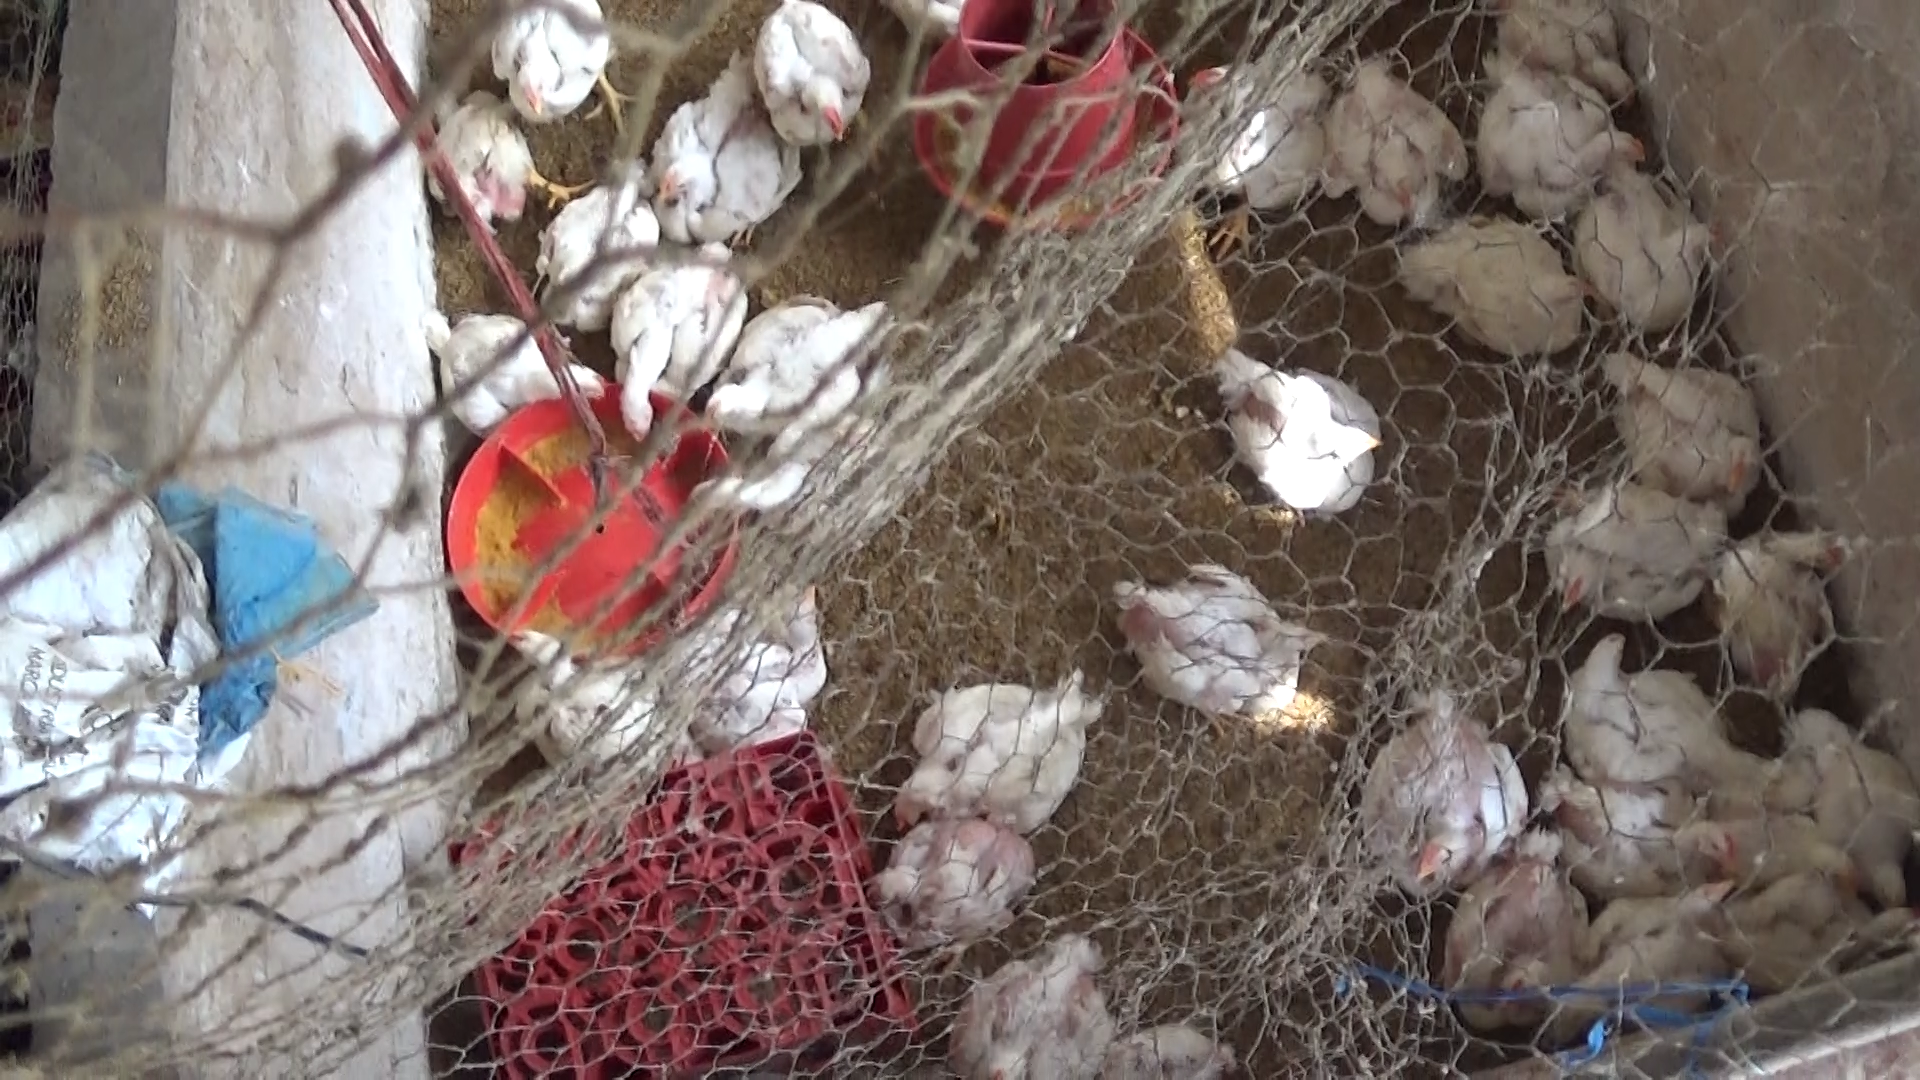Pollos: (870, 678, 1101, 829), (1105, 556, 1313, 723), (1766, 676, 1916, 902), (691, 289, 902, 448), (1458, 42, 1642, 222), (1174, 42, 1332, 248), (1701, 520, 1866, 712), (1531, 479, 1735, 628), (1360, 684, 1511, 884), (1391, 208, 1585, 363), (597, 239, 738, 443), (1211, 349, 1379, 520), (442, 80, 589, 258), (1458, 837, 1597, 1027), (1313, 51, 1465, 223), (942, 923, 1110, 1073), (644, 80, 796, 243), (1565, 603, 1696, 785), (1698, 773, 1866, 911), (1585, 175, 1726, 336), (877, 822, 1054, 948), (535, 164, 671, 323), (415, 314, 611, 422), (1563, 778, 1737, 893), (496, 0, 630, 142), (757, 7, 887, 142), (1486, 3, 1648, 102)
